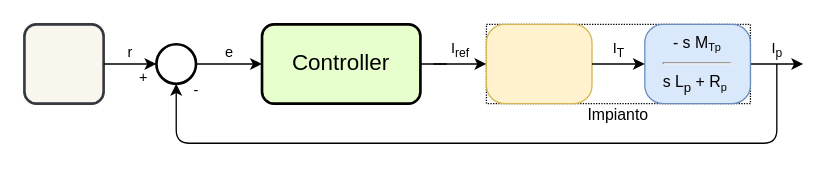
Image size: 837x177. Some labels were removed from this diagram. The shapes that lost their labels are listed below. From the top down, each one's centre as x and y in pixels, then its label:
the point at 63,63: Ref I p
the point at 538,63: 1 s L T + R T
